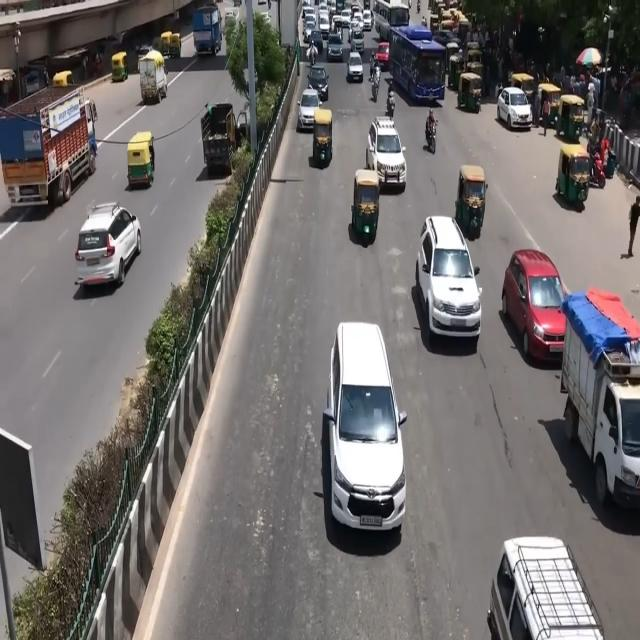auto: (555, 142, 591, 208), (455, 165, 488, 237), (351, 168, 380, 244), (127, 130, 155, 190), (138, 49, 168, 105), (556, 93, 586, 141), (312, 108, 334, 166), (536, 82, 562, 129), (457, 71, 483, 115), (448, 52, 466, 92), (510, 72, 534, 95), (465, 61, 484, 88), (112, 51, 128, 83), (454, 17, 470, 43), (440, 8, 457, 32), (467, 42, 482, 66), (169, 32, 181, 57)
bike-auto: (426, 108, 437, 146), (373, 60, 382, 106), (386, 88, 395, 120), (386, 77, 395, 105), (308, 44, 317, 68)
